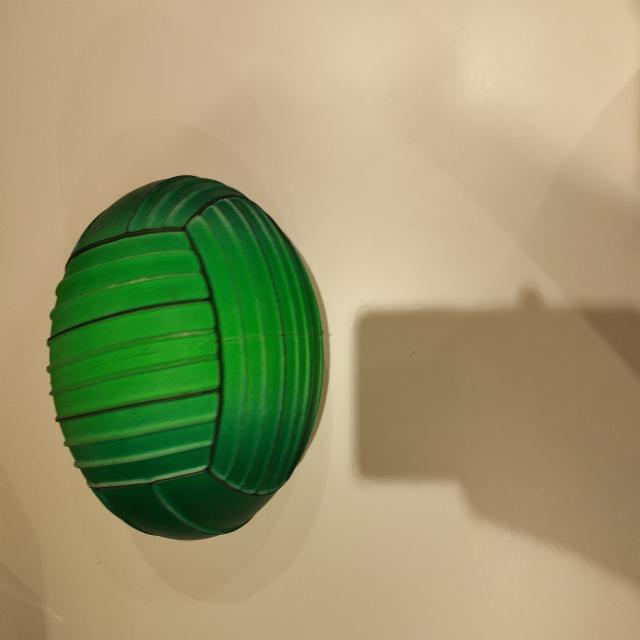zielona: (47, 174, 324, 541)
